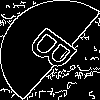B: (25, 25, 88, 80)
